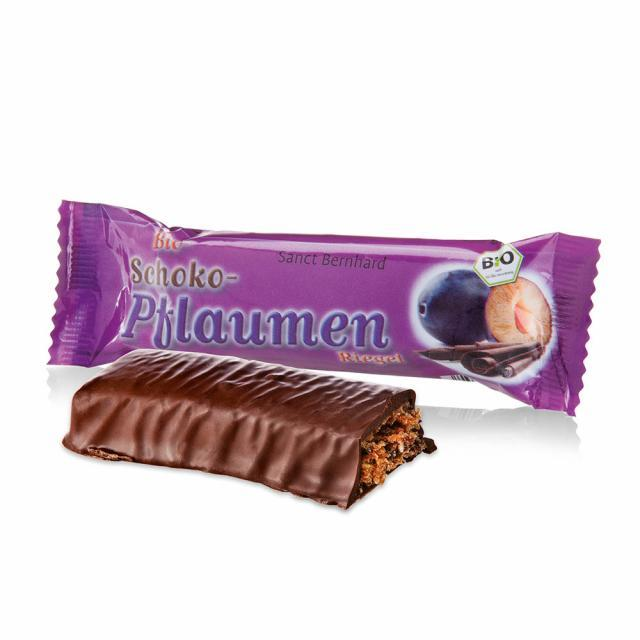Chocolate bar: (50, 197, 603, 426)
Chocolate bar packaged: (61, 349, 441, 511)
